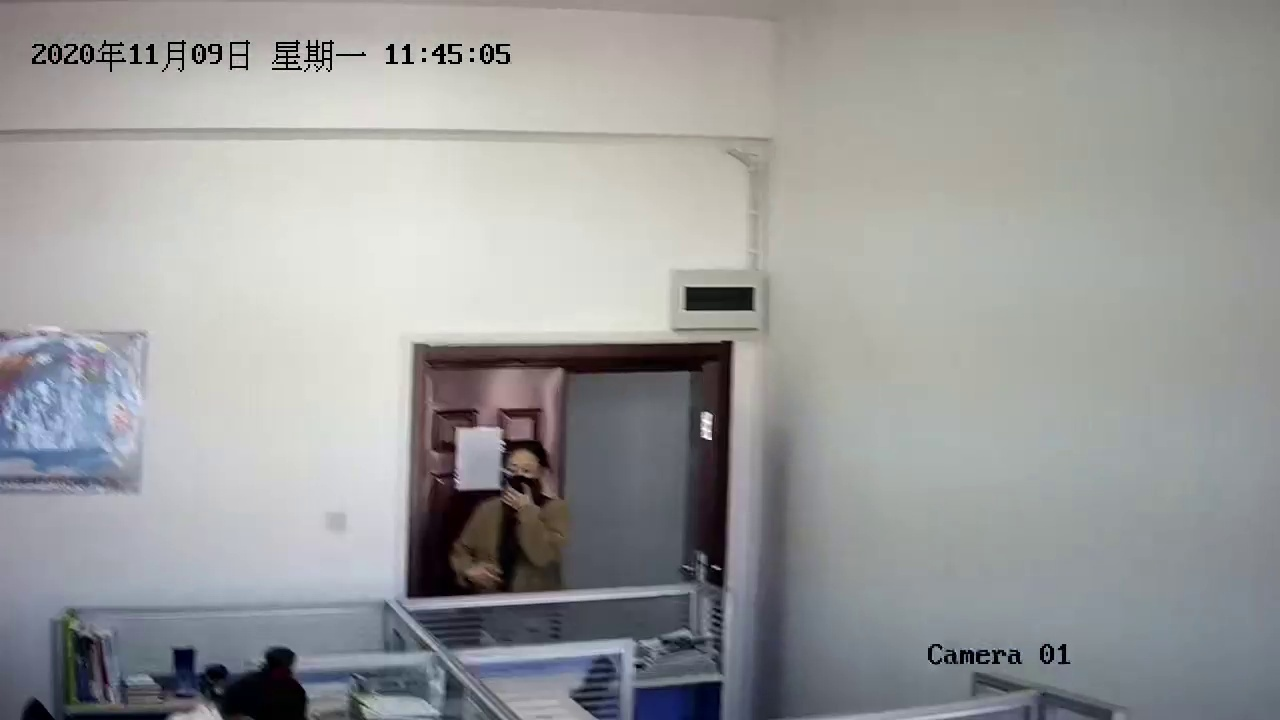mask: (496, 438, 555, 518)
